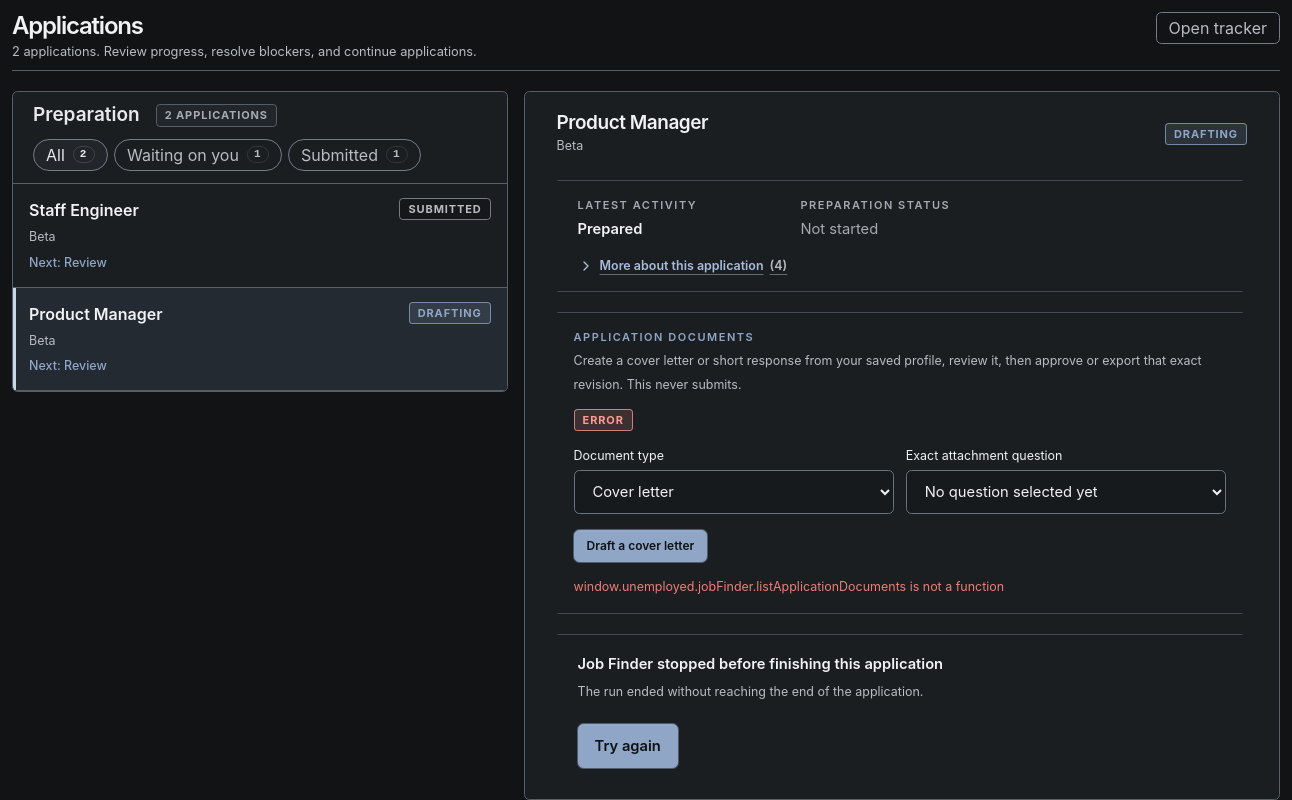
Scenario: ApplicationsScreen › preserves a selected application hidden by the Preparation filter
Click the button "Submitted 1": click(355, 155) [288, 139, 421, 171]
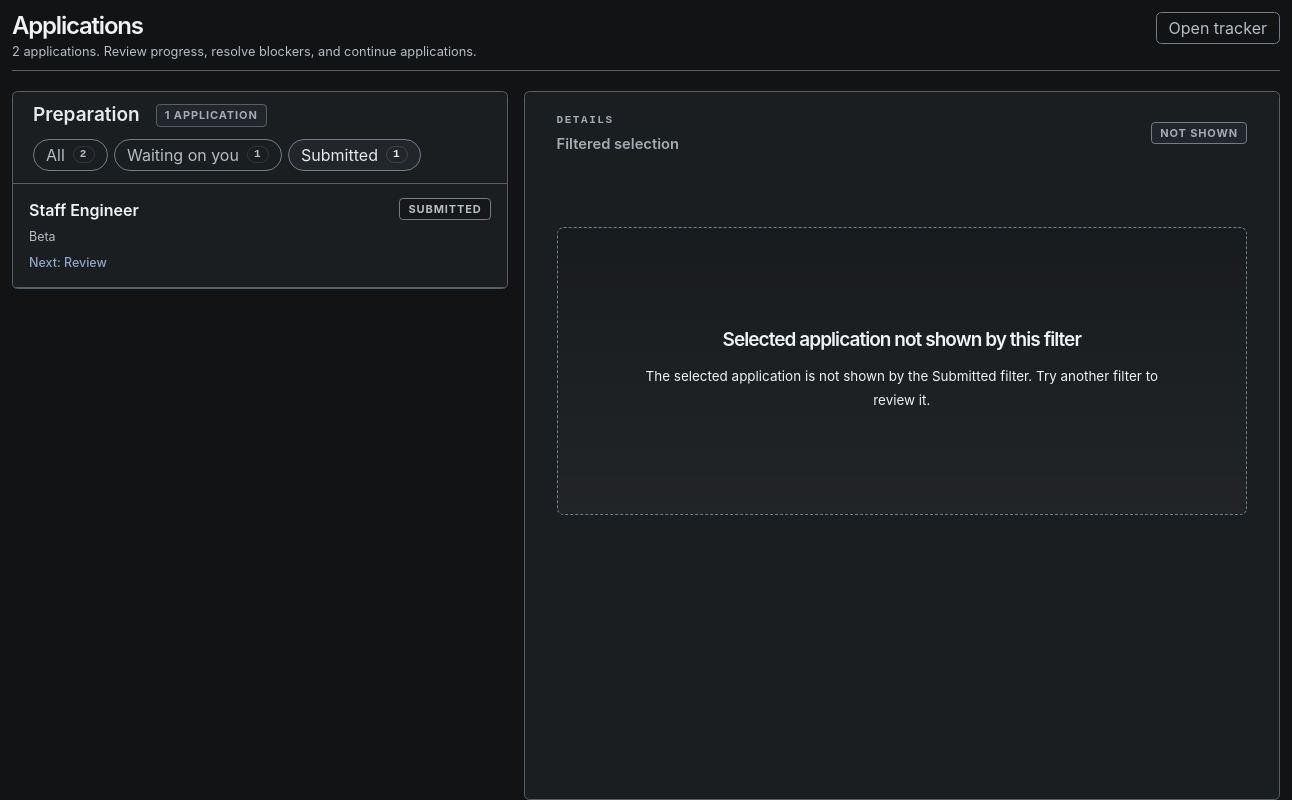
Check: the heading "Selected application not shown by this filter" is shown, box [723, 328, 1081, 351]
Click the button "All 2": click(70, 155) [33, 139, 108, 171]
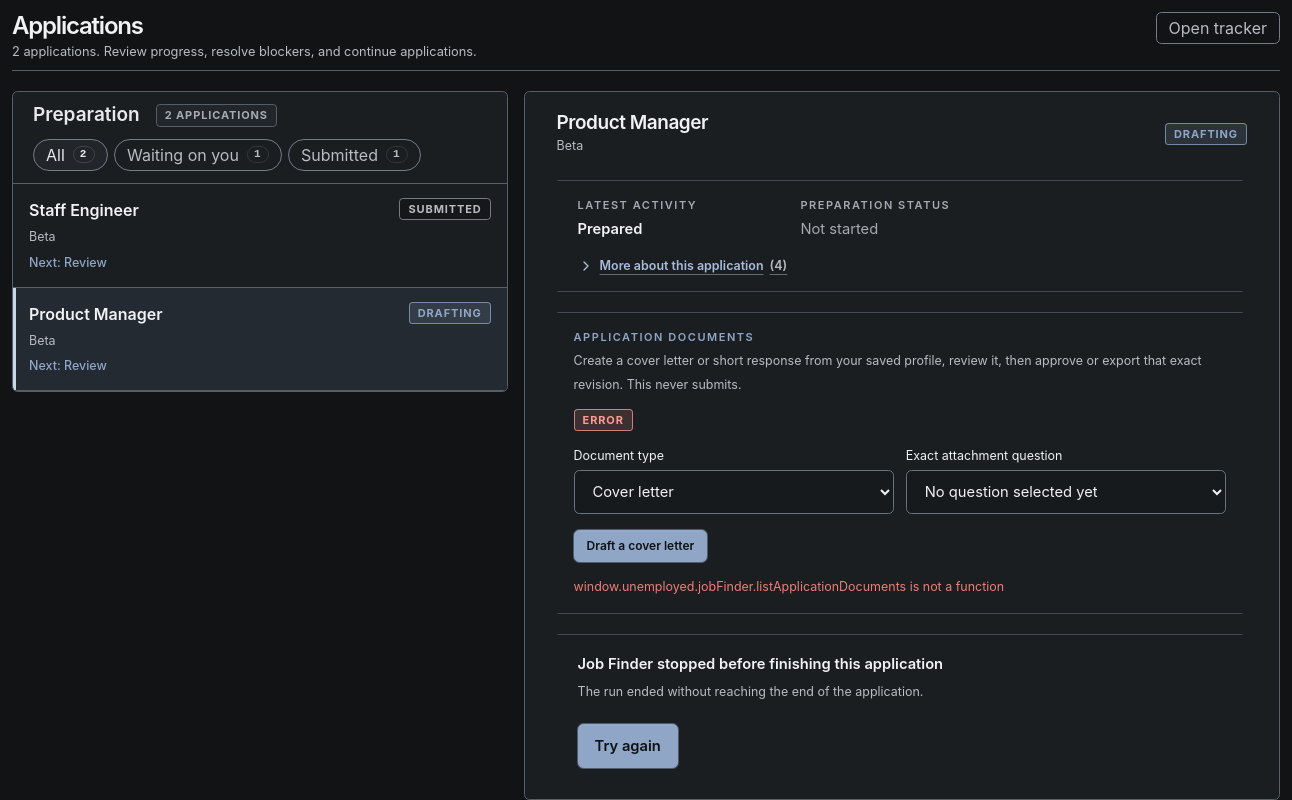
Check: the text "Product Manager" is shown, box [29, 302, 163, 326]
